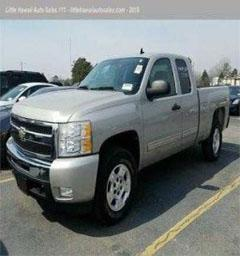car: (7, 50, 233, 238)
